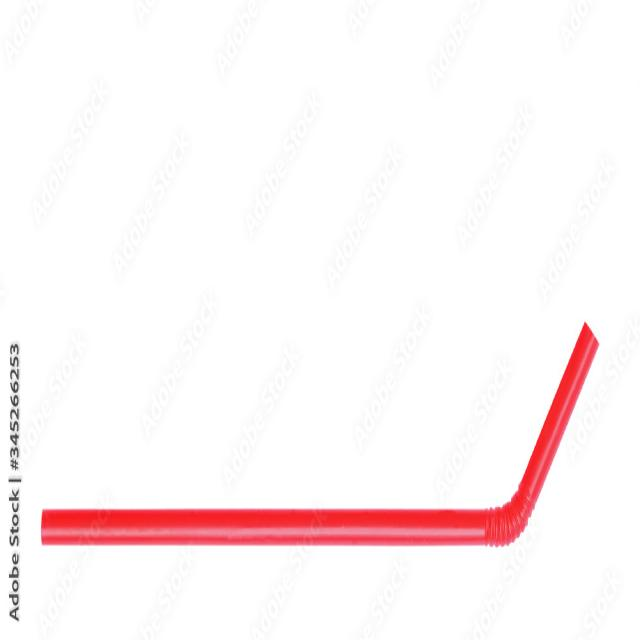plastic: (34, 288, 630, 600)
